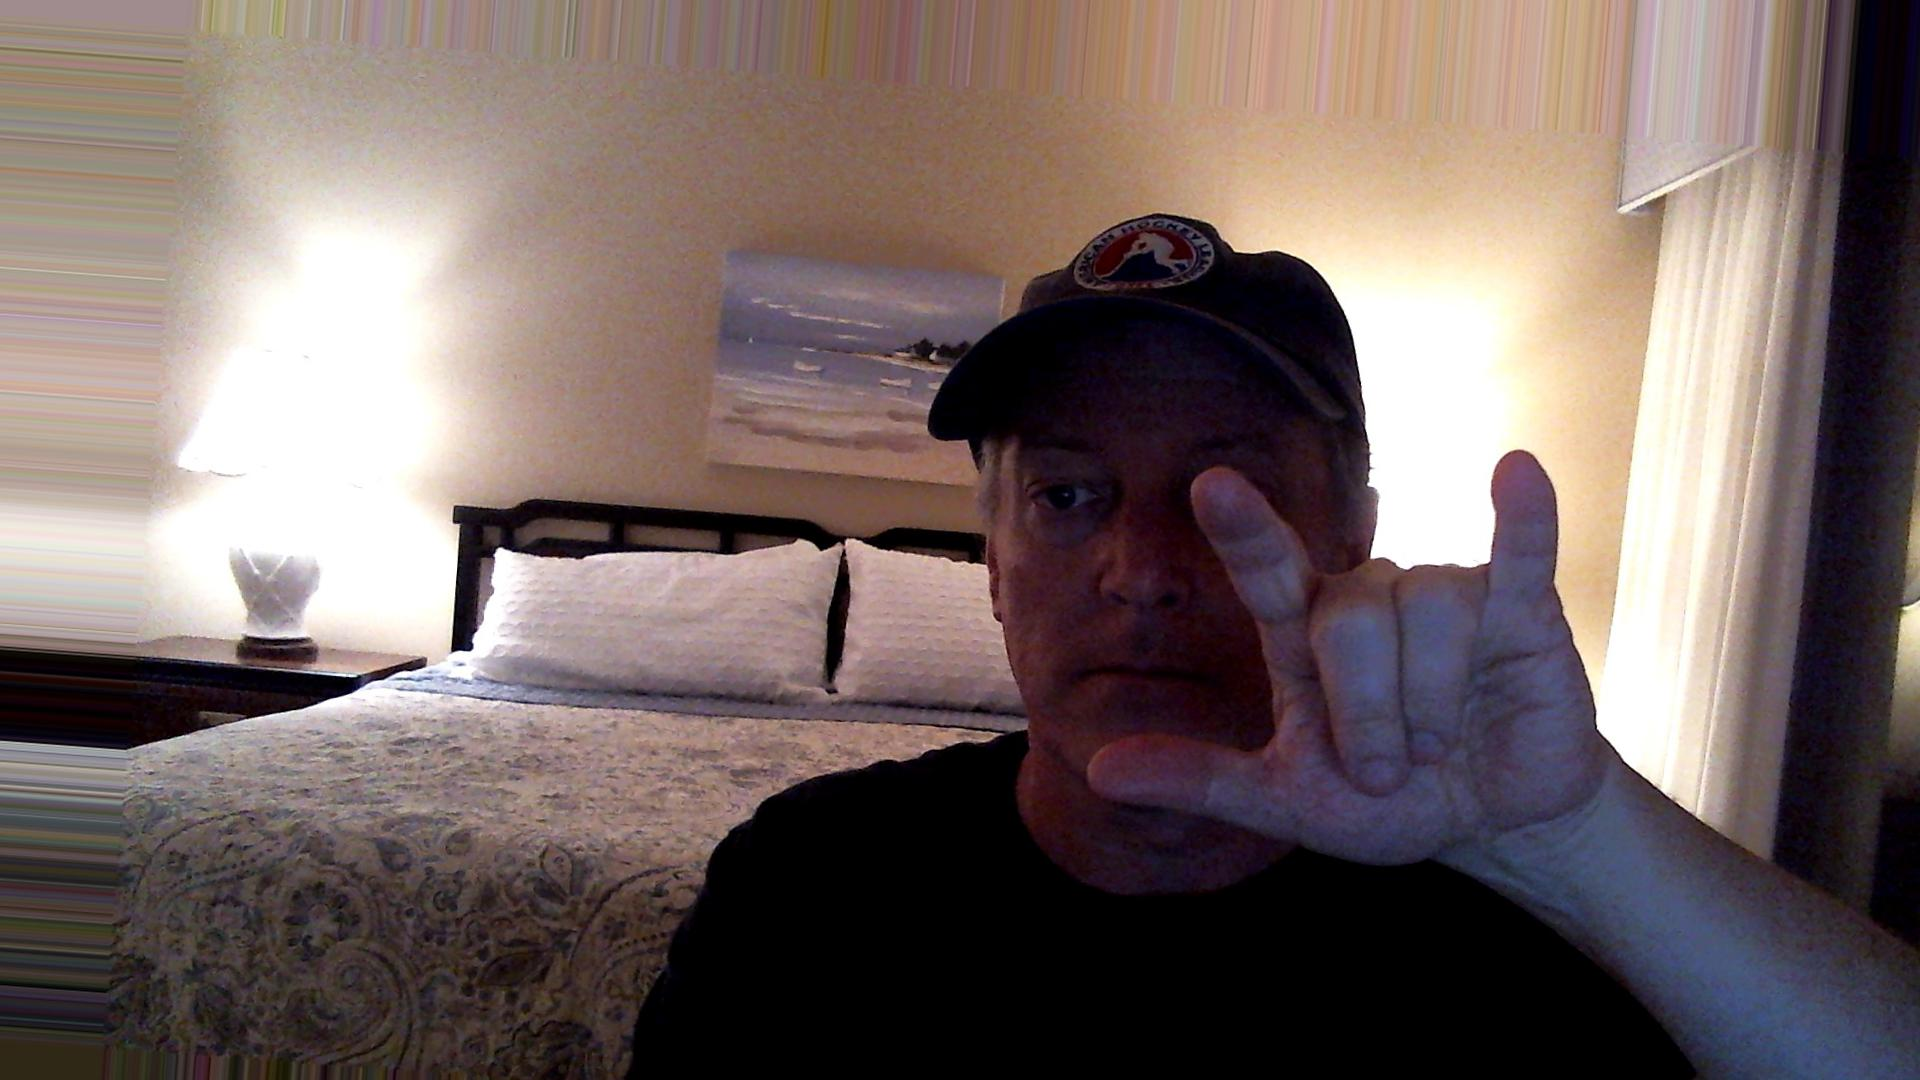I Love You: (1063, 438, 1639, 866)
